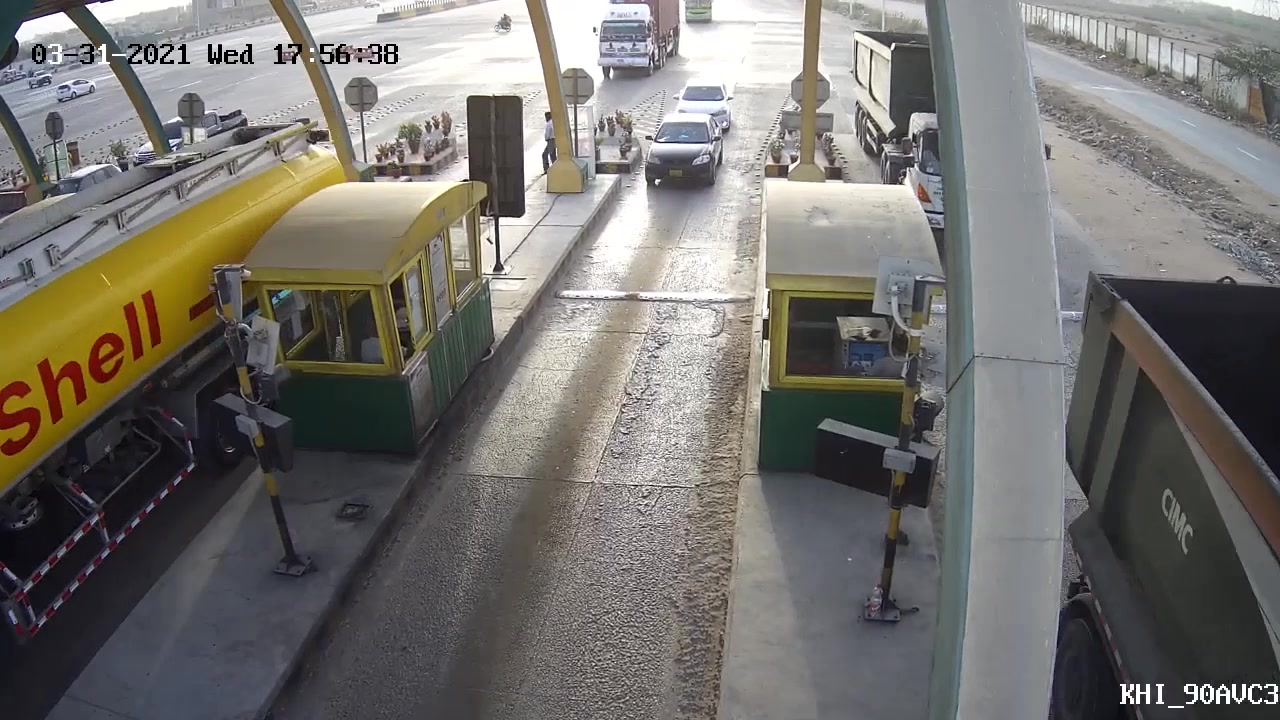F1: (632, 110, 727, 201)
